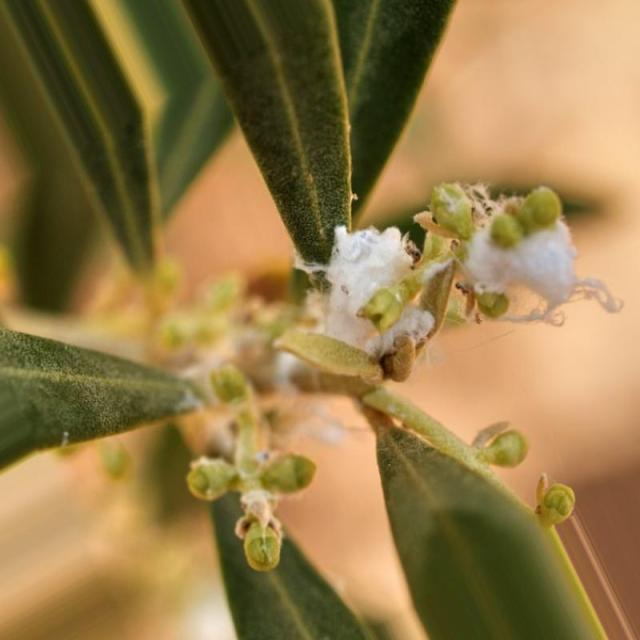Psyllid: (415, 182, 622, 325), (323, 226, 434, 379)
